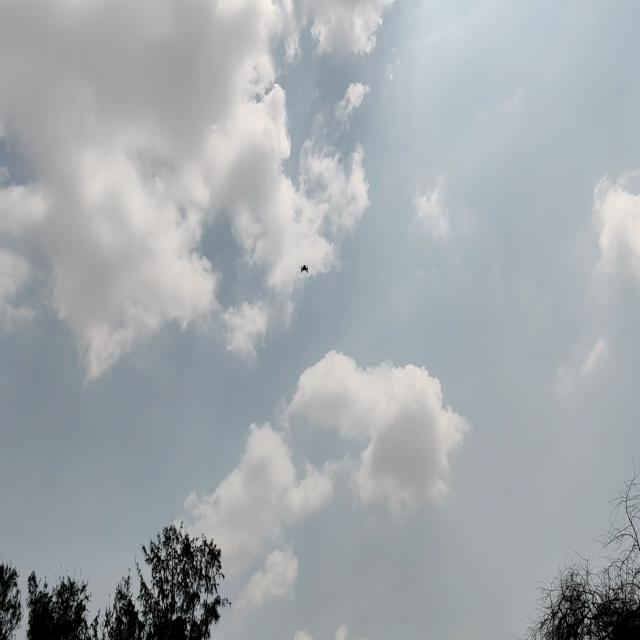drone: (298, 252, 310, 283)
